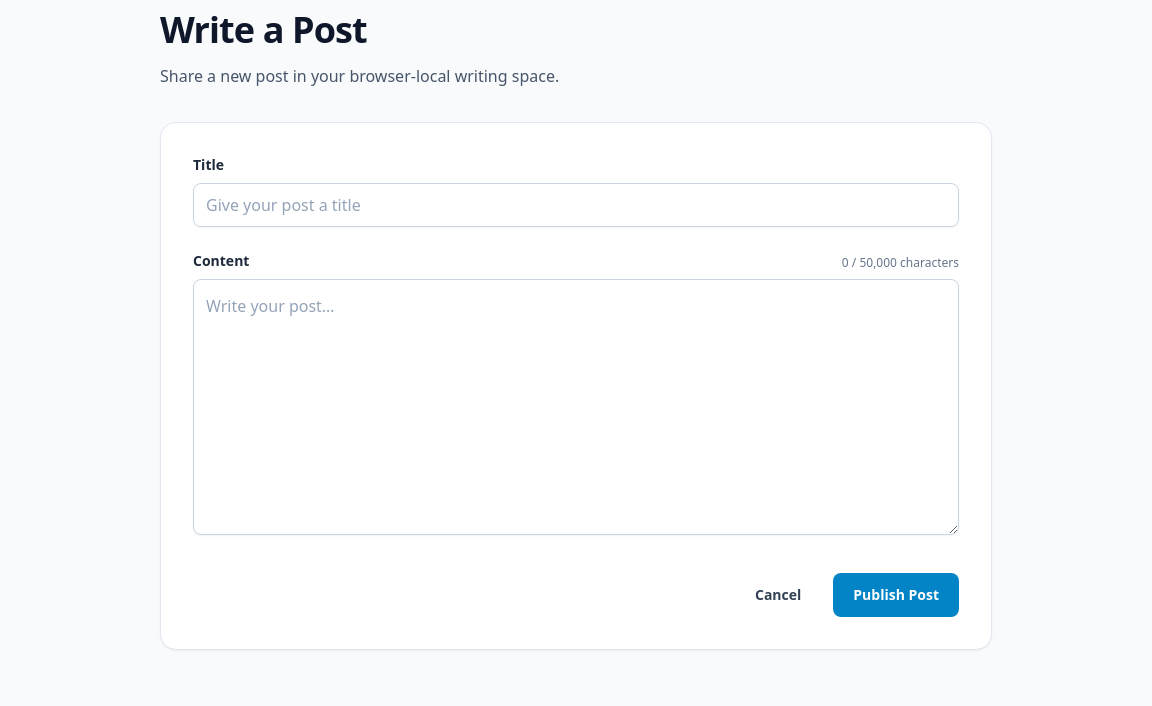
Test case: post creation and editing flows › focuses the first blank field and exposes accessible errors for both required fields
(page scrolled)
Expected: the heading "Write a Post" is shown, [160,5,367,54]
Click the button "Publish Post" at (896, 595), box [833,573,959,617]
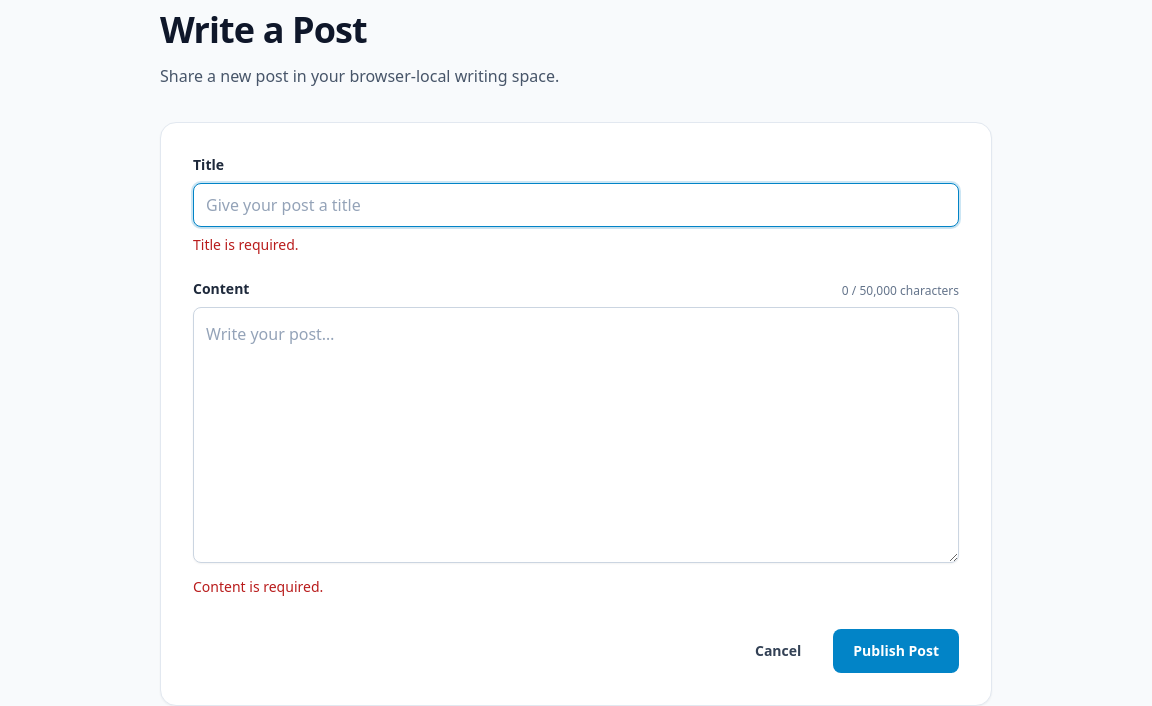
Now the text "Title is required." is shown, box [193,235,299,254]
Now the text "Content is required." is shown, box [193,577,323,596]
